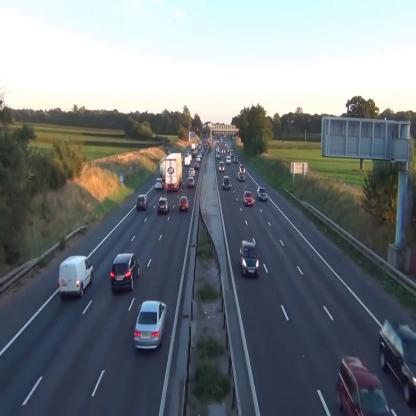car: (336, 356, 390, 416), (379, 319, 416, 404), (134, 300, 167, 352), (112, 252, 140, 291), (240, 240, 259, 277), (157, 197, 170, 214), (136, 194, 148, 212), (256, 187, 268, 201), (243, 191, 254, 206), (179, 196, 189, 212), (223, 176, 230, 190), (155, 177, 163, 189), (187, 177, 195, 187), (238, 172, 245, 182), (219, 161, 224, 172), (193, 162, 199, 171), (189, 168, 195, 176)
lorry: (58, 256, 94, 299), (165, 153, 182, 191), (184, 156, 190, 166)
